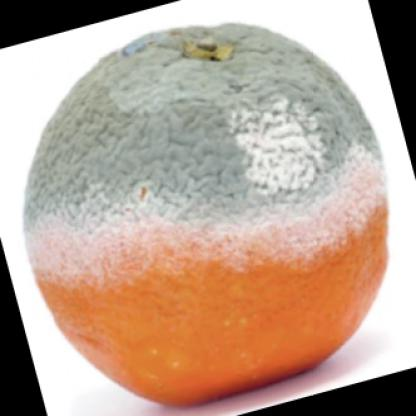rotten_orange: (9, 16, 393, 416)
